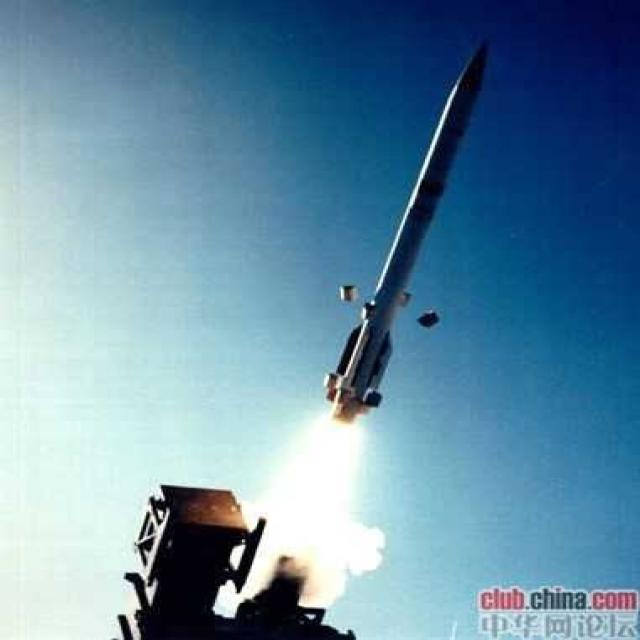missile: (312, 30, 511, 438)
